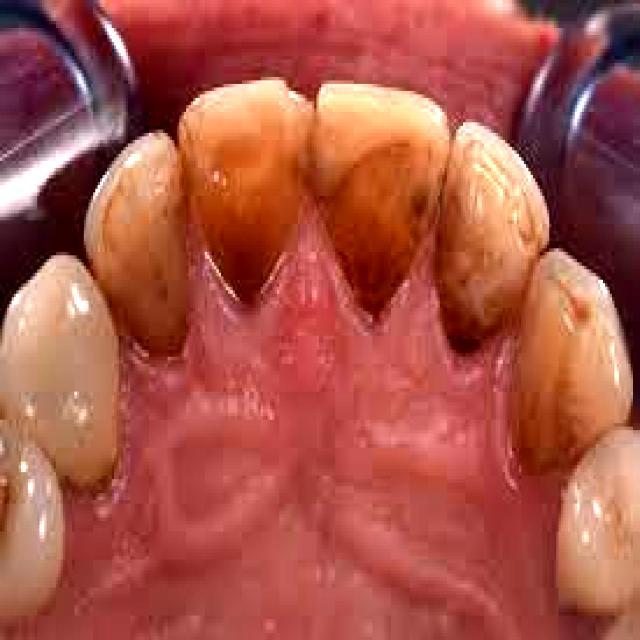tooth-discoloration: (312, 80, 449, 311), (177, 77, 312, 294), (510, 248, 631, 465), (435, 122, 547, 343), (84, 129, 186, 353)
